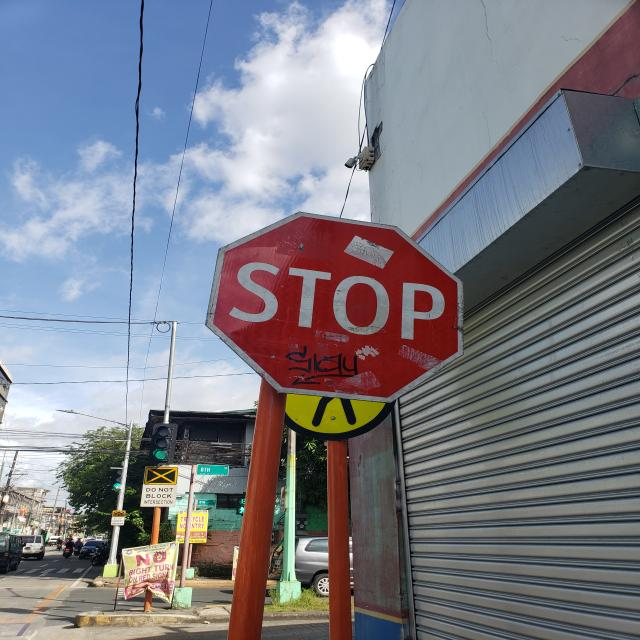stop-sign: (205, 211, 464, 403)
